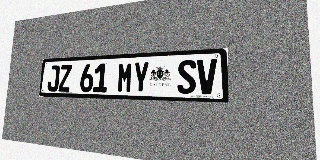1: (93, 63, 108, 92)
6: (80, 64, 94, 92)
J: (47, 65, 60, 92)
M: (117, 62, 133, 93)
S: (177, 59, 196, 94)
V: (197, 59, 217, 94)
Y: (132, 61, 149, 93)
Z: (58, 65, 72, 92)
